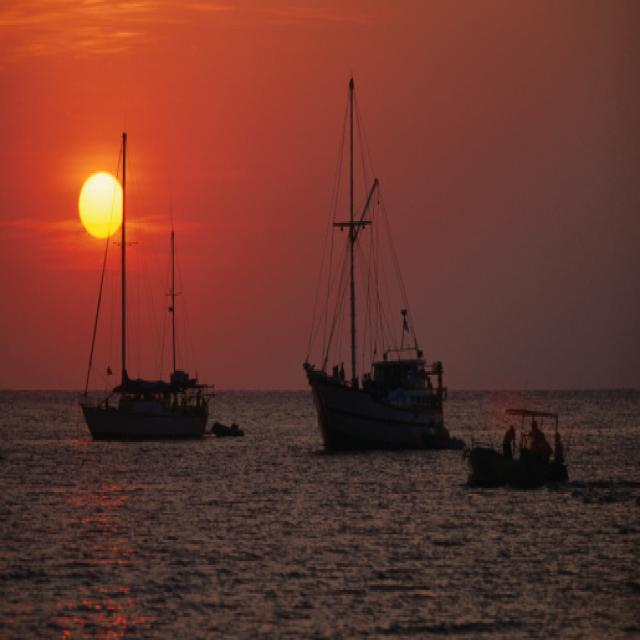Boat: (298, 88, 469, 503), (72, 146, 235, 498), (450, 394, 596, 514)
